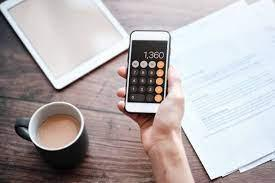Calculator: (127, 48, 167, 106)
